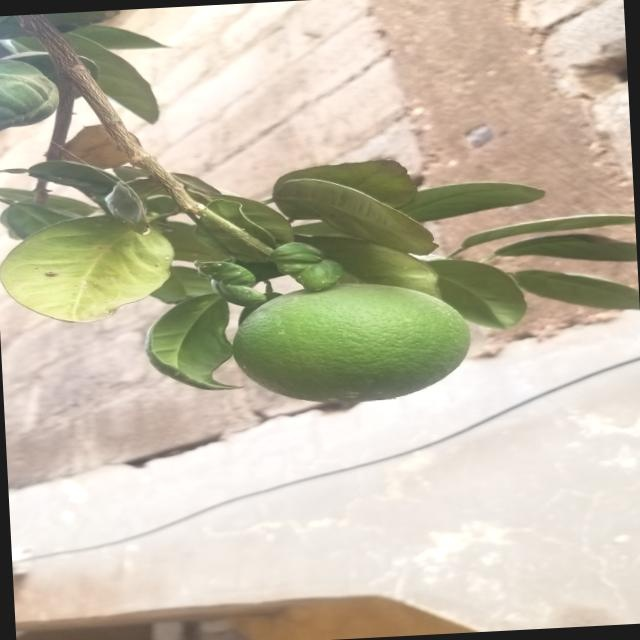agrume: (214, 273, 478, 424)
